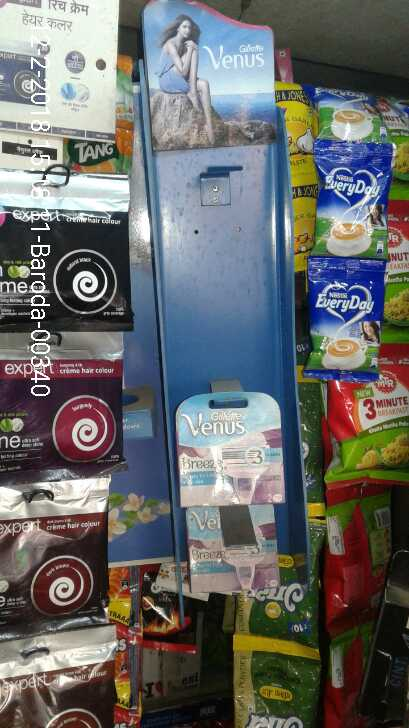reject: (179, 184, 226, 295)
venus: (189, 397, 287, 507), (190, 505, 281, 593)
